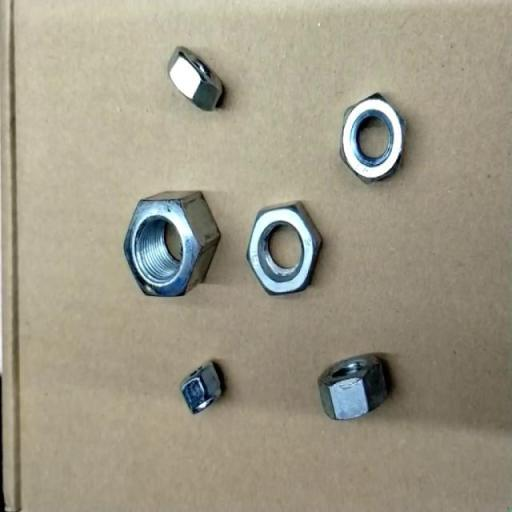Nut: (123, 190, 221, 298), (246, 201, 324, 296), (338, 92, 407, 182), (317, 351, 392, 422), (168, 46, 226, 112), (179, 360, 226, 416)
